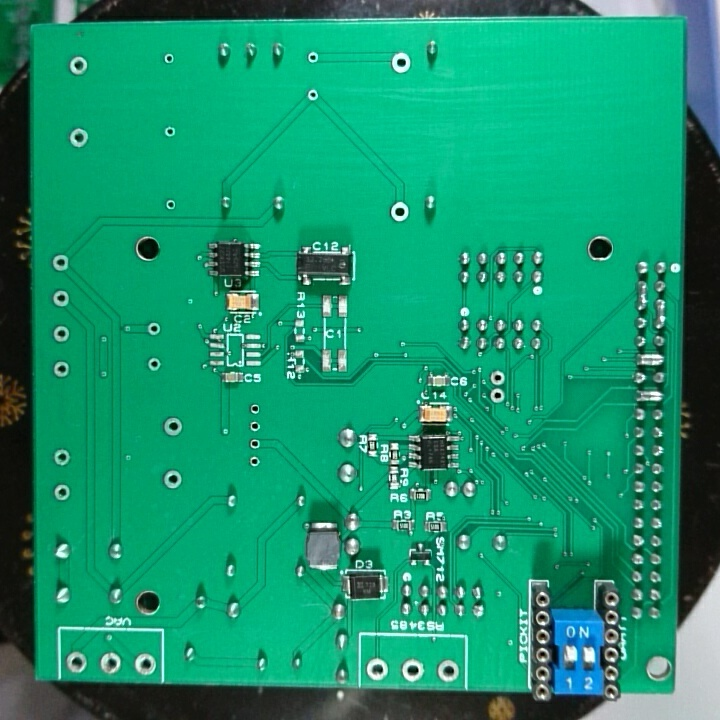F: (398, 656, 428, 685), (364, 655, 391, 684), (131, 651, 159, 678), (97, 649, 125, 676), (388, 47, 414, 76), (435, 657, 462, 684), (63, 648, 90, 675), (65, 52, 92, 79), (387, 200, 414, 225), (160, 467, 185, 492), (161, 414, 185, 439), (67, 125, 91, 150), (51, 479, 74, 505), (50, 358, 73, 380), (50, 323, 73, 345), (50, 252, 72, 275), (51, 446, 73, 468), (51, 287, 71, 310), (488, 367, 508, 387), (488, 386, 508, 406), (145, 354, 165, 374), (145, 318, 163, 340), (303, 86, 322, 105), (246, 452, 264, 471), (159, 49, 177, 68), (162, 194, 180, 213), (161, 122, 179, 140), (246, 435, 265, 452), (246, 400, 265, 417), (247, 417, 264, 435), (305, 49, 321, 67)
P: (632, 386, 668, 405), (632, 351, 668, 368), (652, 296, 669, 332), (634, 278, 651, 312)
